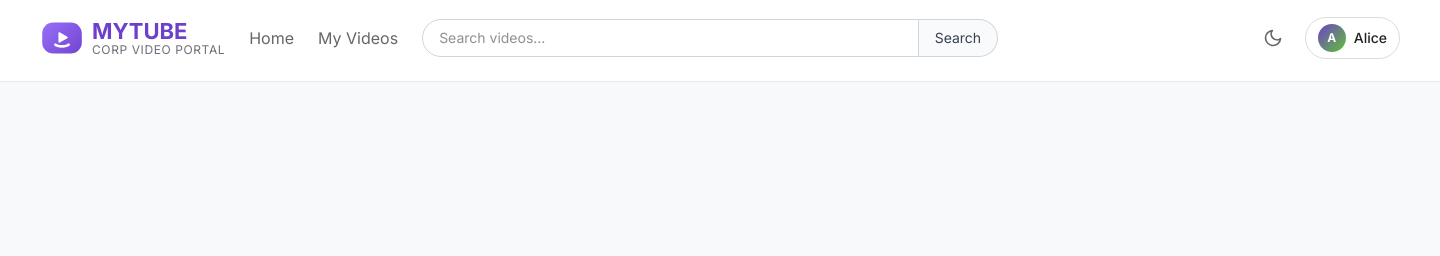
it: SiteHeader — authenticated › opens dropdown menu when user menu button is clicked
Click the button with aria-label "user menu" at (1352, 38), box [1305,16,1400,58]
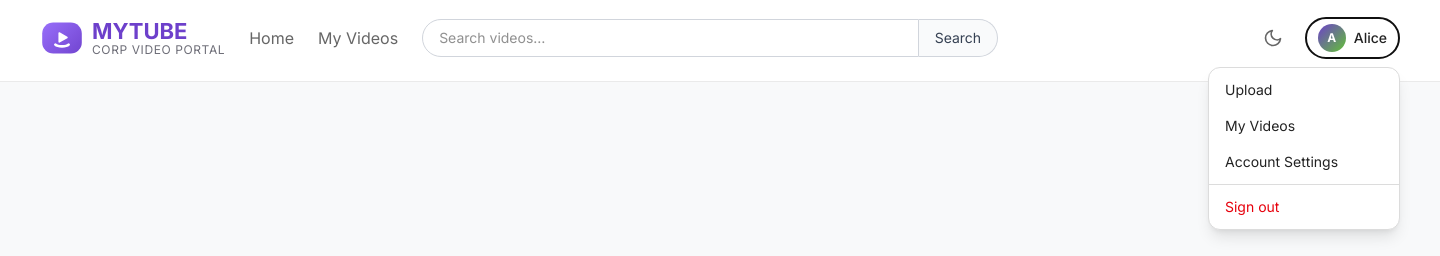
Result: the menu is shown at [1208,66,1400,230]
